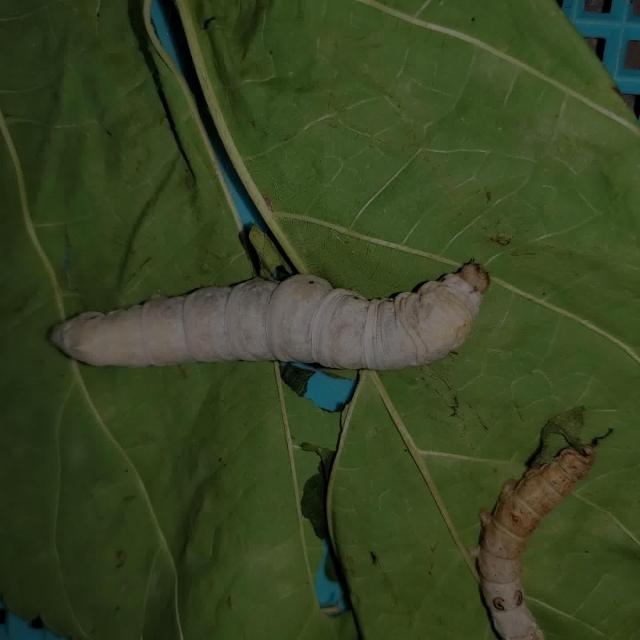Grasserie: (20, 228, 521, 402)
